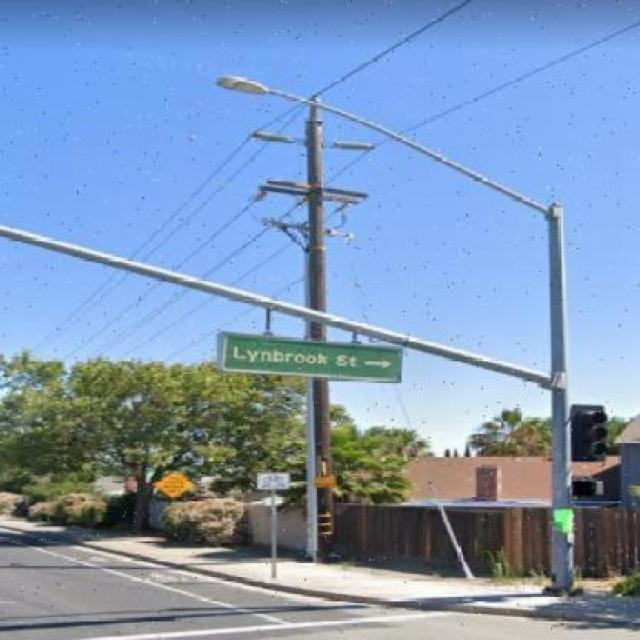pole: (246, 100, 394, 583)
